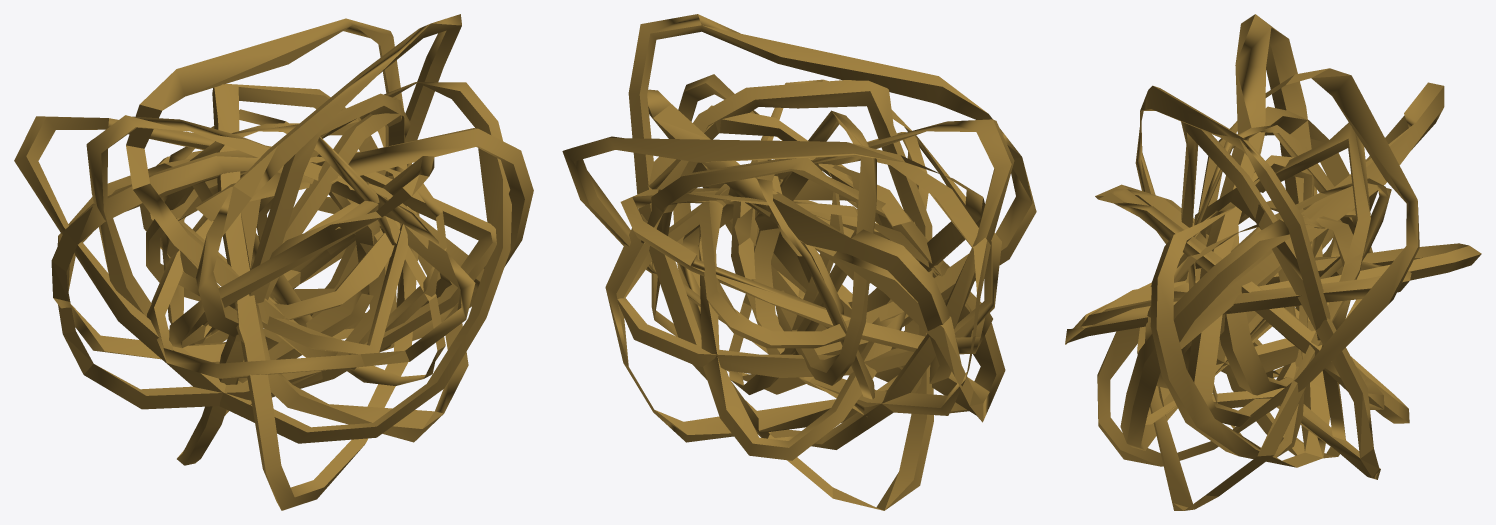
Rendered from smallD.glb.
The picture shows the model from 3 angles, left to right: view 1: azimuth 30°, elevation 25°; view 2: azimuth 150°, elevation 25°; view 3: azimuth 270°, elevation 25°; orthographic projection. The views are drawn at different scales.
Parts seen in each view (by area): view 1: Line003; view 2: Line003; view 3: Line003.
Part boxes in pixels (box(x1,y1,x2,y2)): Line003: box(14, 14, 533, 510); Line003: box(562, 14, 1036, 510); Line003: box(1065, 14, 1481, 510).
Size of the model in its own units: 0.0721 by 0.0729 by 0.0647.
